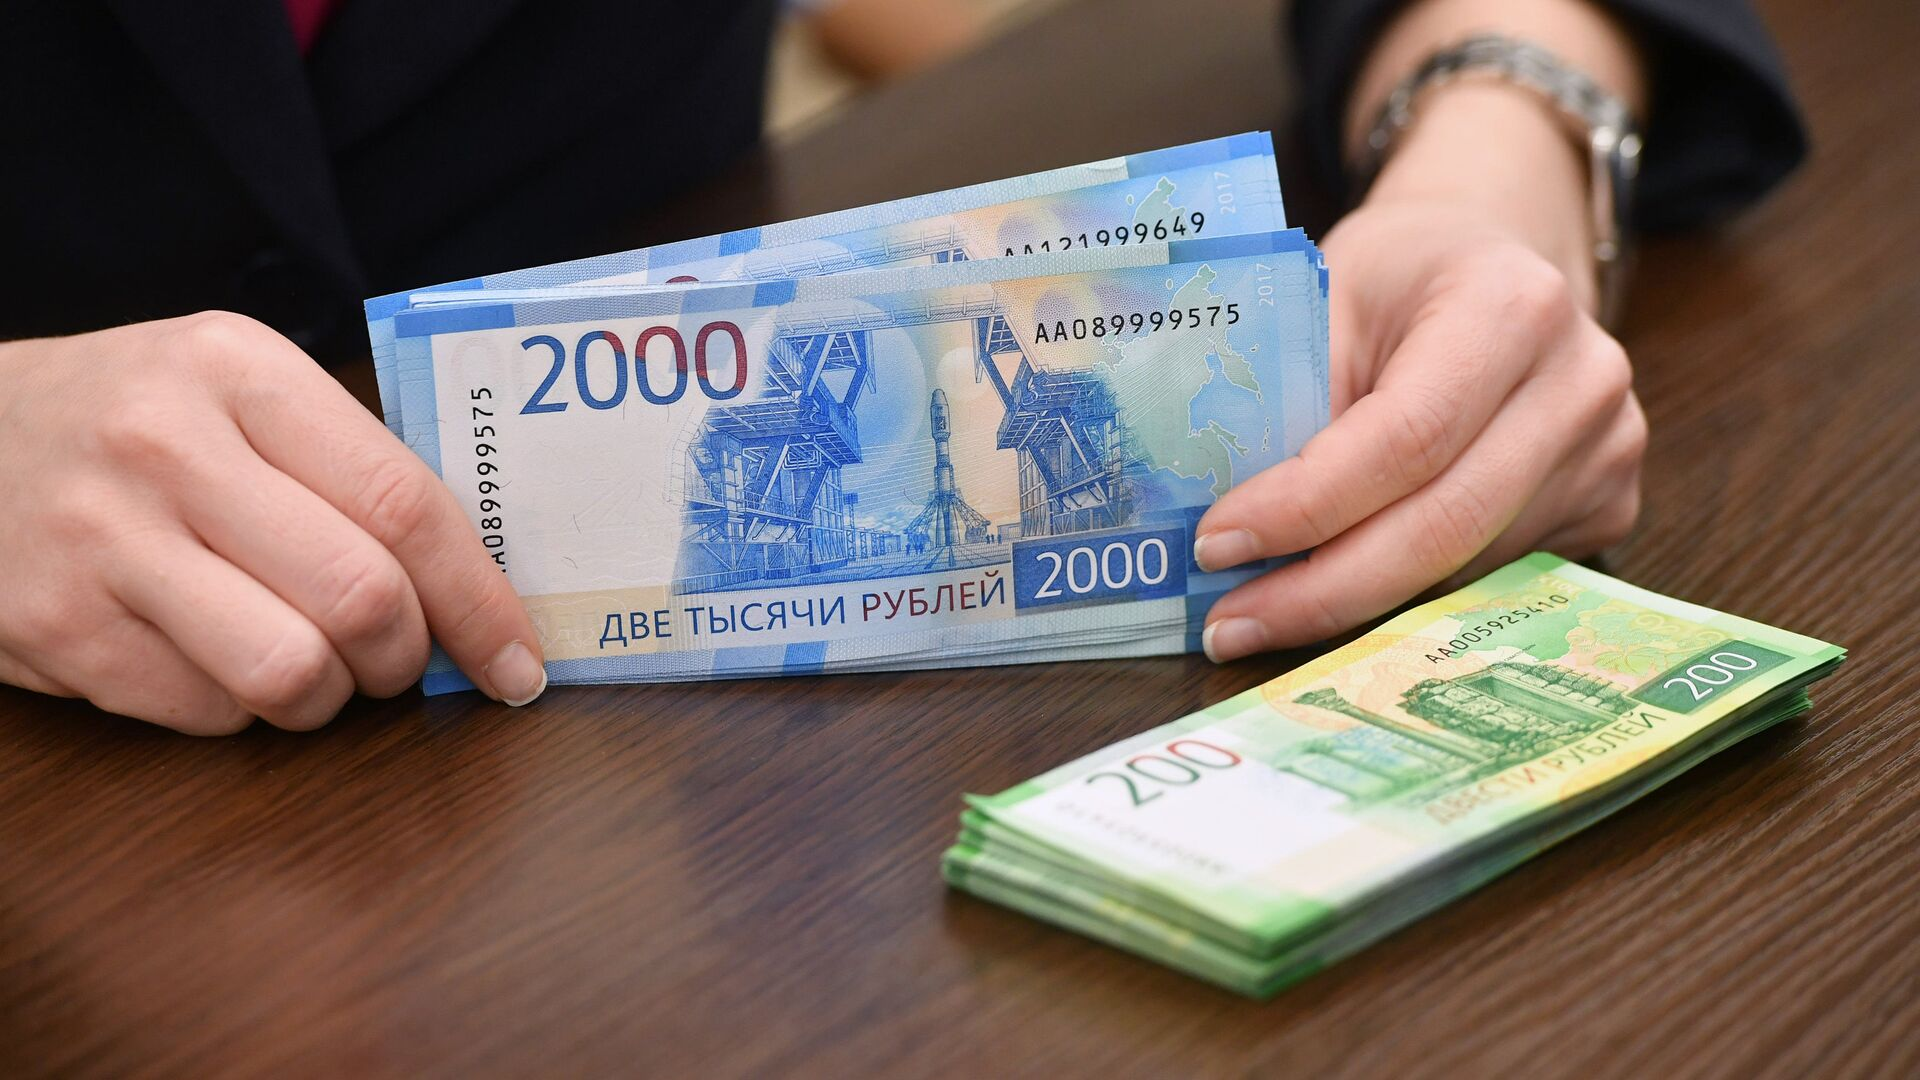cash: (396, 223, 1311, 686), (959, 551, 1844, 926)
